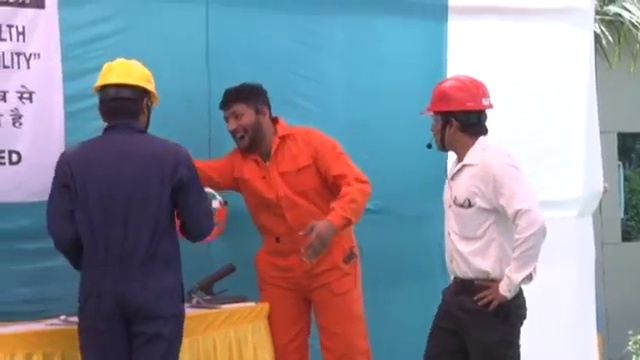helmet: (91, 56, 160, 106), (421, 73, 495, 115)
helmet_off: (218, 84, 277, 150)
helmet_on: (419, 72, 495, 158), (88, 56, 160, 137)
person: (46, 55, 214, 360), (195, 83, 374, 360), (418, 70, 549, 360)
